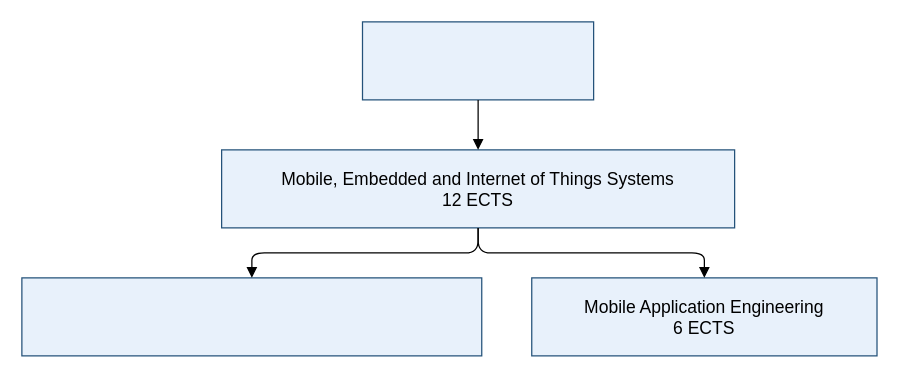
The diagram is 900 pixels wide and 379 high, and some of its shapes have lost their labels. The shapes that lost their labels are listed below. From the top down, each one's centre as x and y in pixels, then its label:
(477,60): Web Development 12 ECTS
(251,316): Context-Aware and Location-Based Systems 9 ECTS
